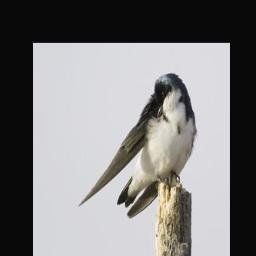Swallow: (78, 70, 199, 219)
